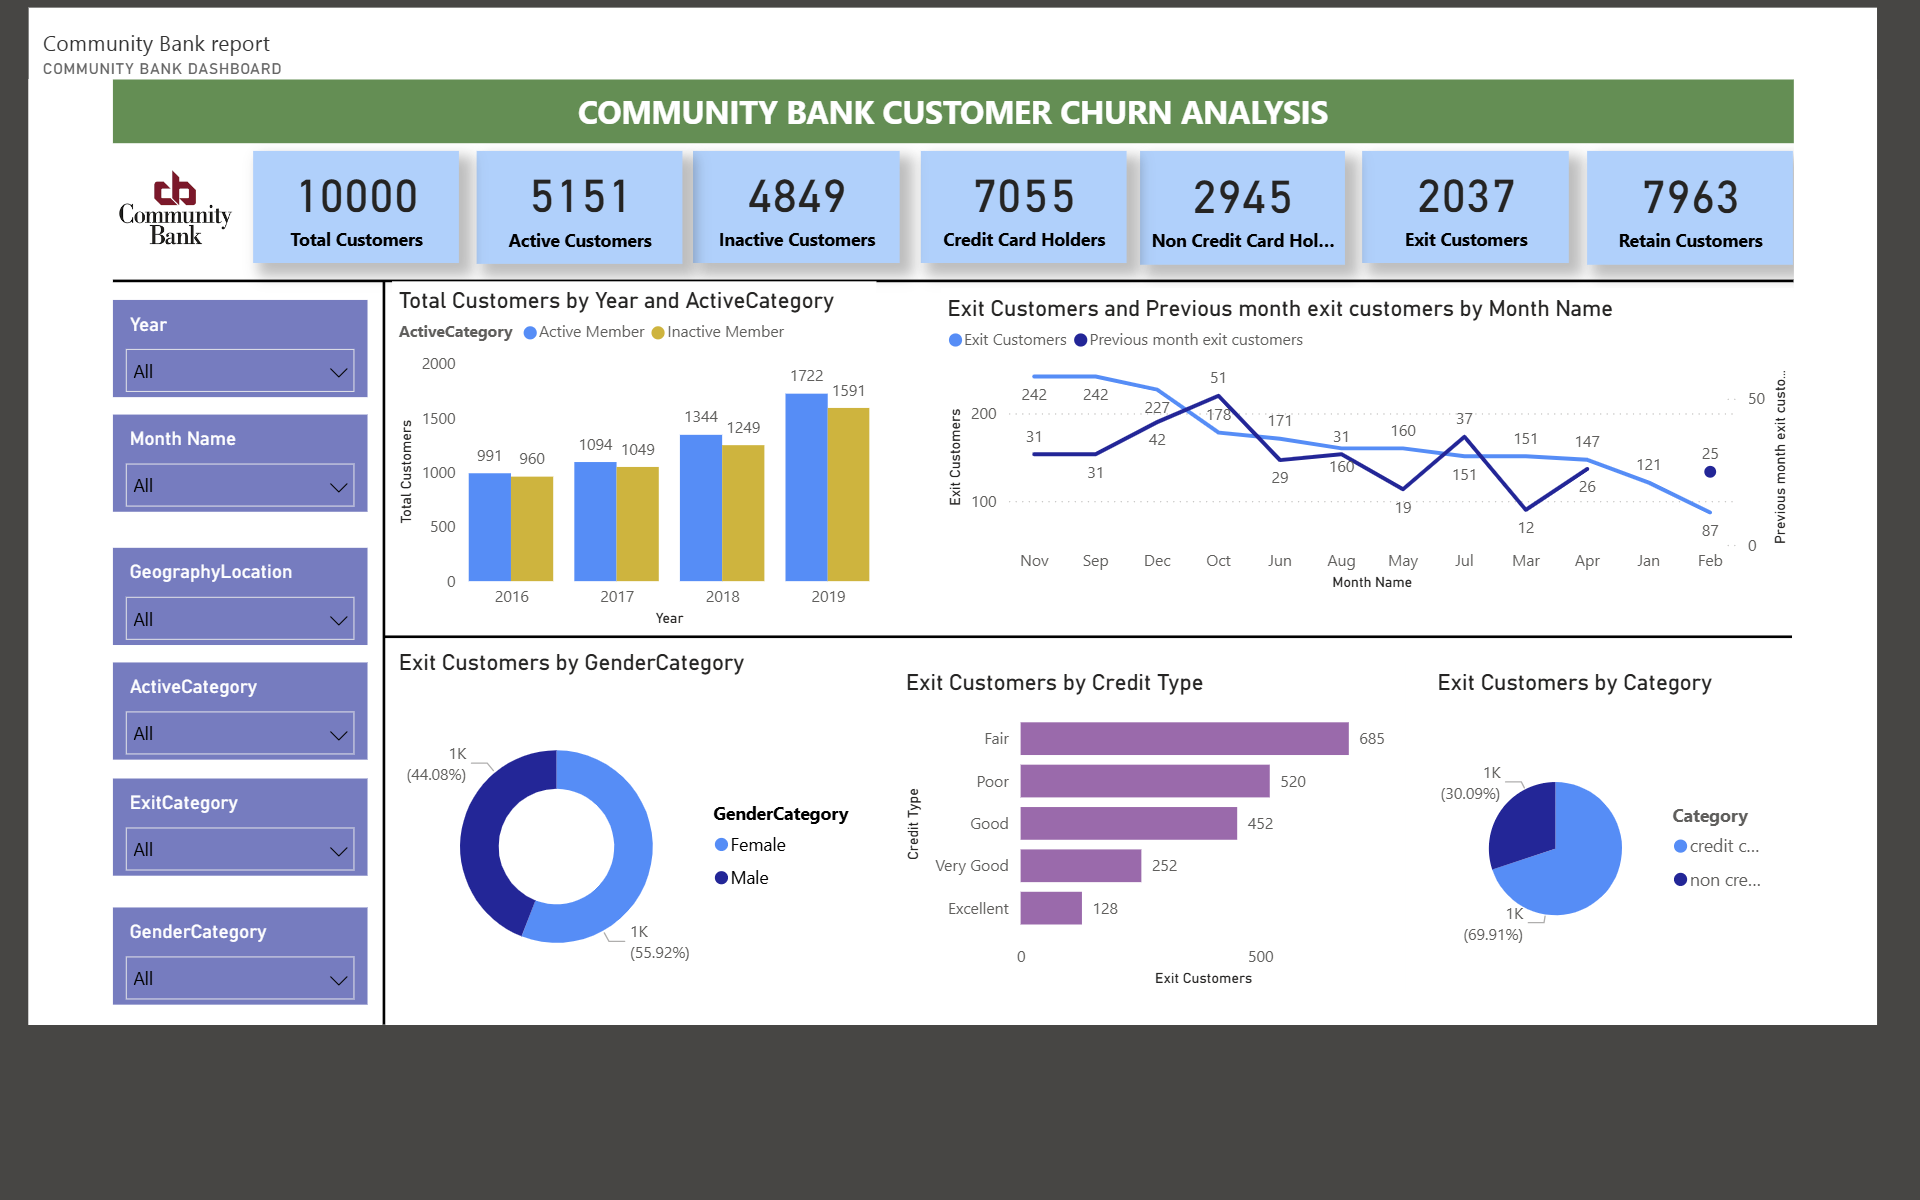

This screenshot's page, from the dashboard's own definition file:
{"tool":"powerbi","page":{"name":"Community Bank Dashboard","canvas":[1280,720],"ordinal":0},"visuals":[{"type":"card","fields":{"Values":["Calculations.Exit Customers"]},"box":[951,54.6,157.6,85.1],"z":0},{"type":"card","fields":{"Values":["Calculations.Retain Customers"]},"box":[1123,54.6,156.7,86.9],"z":1000},{"type":"card","fields":{"Values":["Calculations.Non Credit Card Holders"]},"box":[782.7,54.6,155.8,86.9],"z":2000},{"type":"card","fields":{"Values":["Calculations.Credit Card Holders"]},"box":[615.2,54.6,156.7,85.1],"z":3000},{"type":"card","fields":{"Values":["Calculations.Inactive Customers"]},"box":[441.5,54.6,157.6,85.1],"z":4000},{"type":"card","fields":{"Values":["Calculations.Active Customers"]},"box":[277.6,54.6,156.7,86],"z":5000},{"type":"card","fields":{"Values":["Calculations.Total Customers"]},"box":[106.6,54.6,156.7,85.1],"z":6000},{"type":"textbox","box":[0,0,1279.7,48.4],"z":7000},{"type":"shape","box":[0,139.7,1279.7,27.8],"z":8000},{"type":"shape","box":[206.5,410.7,1072.4,28.5],"z":9000},{"type":"slicer","fields":{"Values":["DateMaster.Year"]},"box":[0,167.5,194.3,74.3],"z":10000},{"type":"slicer","fields":{"Values":["DateMaster.Month Name"]},"box":[0,255.2,194.3,74.3],"z":11000},{"type":"slicer","fields":{"Values":["Geography.GeographyLocation"]},"box":[0,356.4,194.3,74.3],"z":12000},{"type":"slicer","fields":{"Values":["ActiveCustomer.ActiveCategory"]},"box":[0,444.2,194.3,74.3],"z":13000},{"type":"slicer","fields":{"Values":["ExitCustomer.ExitCategory"]},"box":[0,532.8,194.3,74.3],"z":14000},{"type":"slicer","fields":{"Values":["Gender.GenderCategory"]},"box":[0,630.4,194.3,74.3],"z":15000},{"type":"shape","box":[185.4,154,42.1,566],"z":16000},{"type":"clusteredColumnChart","fields":{"Category":["DateMaster.Year","DateMaster.Month Name"],"Y":["Calculations.Total Customers"],"Series":["ActiveCustomer.ActiveCategory"]},"box":[212.2,154,368.5,267],"z":17000},{"type":"donutChart","fields":{"Y":["Calculations.Exit Customers"],"Category":["Gender.GenderCategory"]},"box":[212.2,428.9,368.5,290.9],"z":18000},{"type":"lineChart","fields":{"Y":["Calculations.Exit Customers"],"Y2":["Calculations.Previous month exit customers"],"Category":["DateMaster.Month Name"]},"box":[630.9,159.7,649.1,233.9],"z":19000},{"type":"image","box":[0,54.6,95.8,87.8],"z":20000},{"type":"clusteredBarChart","fields":{"Category":["Bank_Churn.Credit Type"],"Y":["Calculations.Exit Customers"]},"box":[598.9,443.8,385.6,251],"z":21000},{"type":"pieChart","fields":{"Category":["CreditCard.Category"],"Y":["Calculations.Exit Customers"]},"box":[1003.9,443.8,267,263.5],"z":22000}]}

Visuals, with their boxes on the page's 1280x720 design canvas (x1, y1, x2, y2). These are canvas units, not pixel positions in the 1920x1200 screenshot, which may show the page scaled, cropped or inside an application window:
card - Calculations.Exit Customers: crop(951, 55, 1109, 140)
card - Calculations.Retain Customers: crop(1123, 55, 1280, 142)
card - Calculations.Non Credit Card Holders: crop(783, 55, 938, 142)
card - Calculations.Credit Card Holders: crop(615, 55, 772, 140)
card - Calculations.Inactive Customers: crop(442, 55, 599, 140)
card - Calculations.Active Customers: crop(278, 55, 434, 141)
card - Calculations.Total Customers: crop(107, 55, 263, 140)
textbox: crop(0, 0, 1280, 48)
shape: crop(0, 140, 1280, 168)
shape: crop(206, 411, 1279, 439)
slicer - DateMaster.Year: crop(0, 168, 194, 242)
slicer - DateMaster.Month Name: crop(0, 255, 194, 330)
slicer - Geography.GeographyLocation: crop(0, 356, 194, 431)
slicer - ActiveCustomer.ActiveCategory: crop(0, 444, 194, 518)
slicer - ExitCustomer.ExitCategory: crop(0, 533, 194, 607)
slicer - Gender.GenderCategory: crop(0, 630, 194, 705)
shape: crop(185, 154, 228, 720)
clusteredColumnChart - DateMaster.Year x DateMaster.Month Name: crop(212, 154, 581, 421)
donutChart - Calculations.Exit Customers x Gender.GenderCategory: crop(212, 429, 581, 720)
lineChart - Calculations.Exit Customers x Calculations.Previous month exit customers: crop(631, 160, 1280, 394)
image: crop(0, 55, 96, 142)
clusteredBarChart - Bank_Churn.Credit Type x Calculations.Exit Customers: crop(599, 444, 984, 695)
pieChart - CreditCard.Category x Calculations.Exit Customers: crop(1004, 444, 1271, 707)
